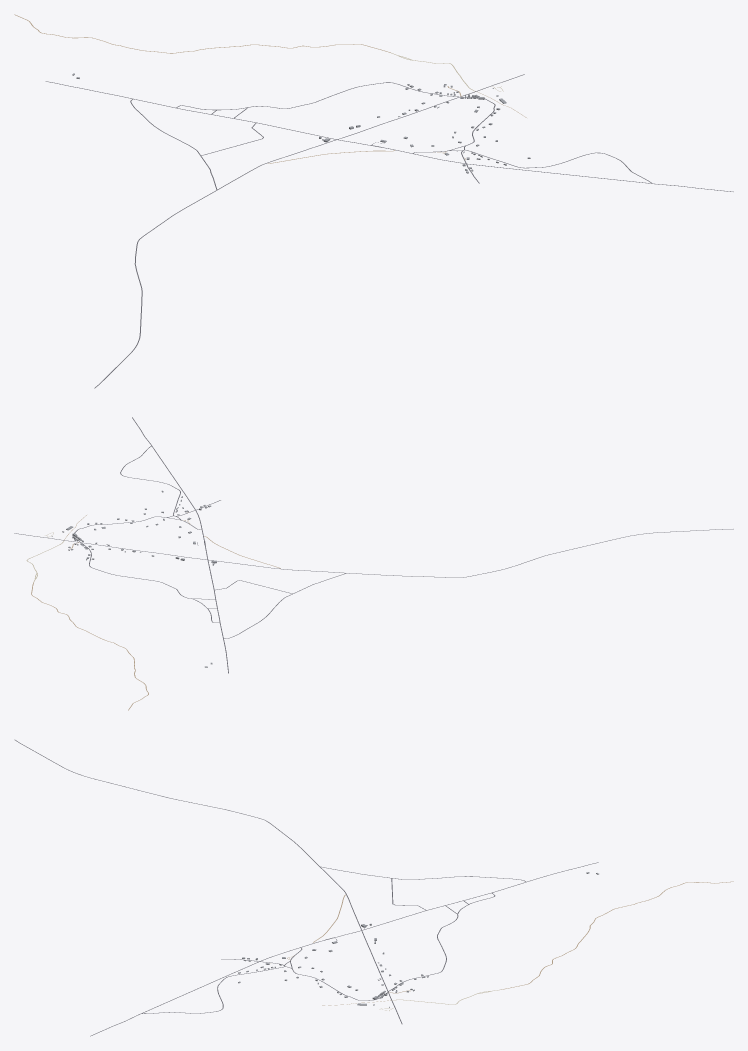
The model's file is juliette-ga.glb.
The picture shows the model from 3 angles, top to bottom: view 1: azimuth 30°, elevation 25°; view 2: azimuth 150°, elevation 25°; view 3: azimuth 270°, elevation 25°; orthographic projection. The views are drawn at different scales.
Parts seen in each view (by area): view 1: roads-tarmac, roads-dirt_road, buildings; view 2: roads-tarmac, buildings; view 3: roads-tarmac, buildings.
Boxes of the visible parts, <box> form: roads-tarmac: <box>45,74,733,388</box>; roads-dirt_road: <box>14,14,526,163</box>; buildings: <box>72,73,530,173</box>; roads-tarmac: <box>14,417,733,673</box>; buildings: <box>51,490,216,667</box>; roads-tarmac: <box>14,739,598,1036</box>; buildings: <box>238,872,598,1007</box>.
Bounding box in the file's own units: 5509 × 42.26 × 5660.
